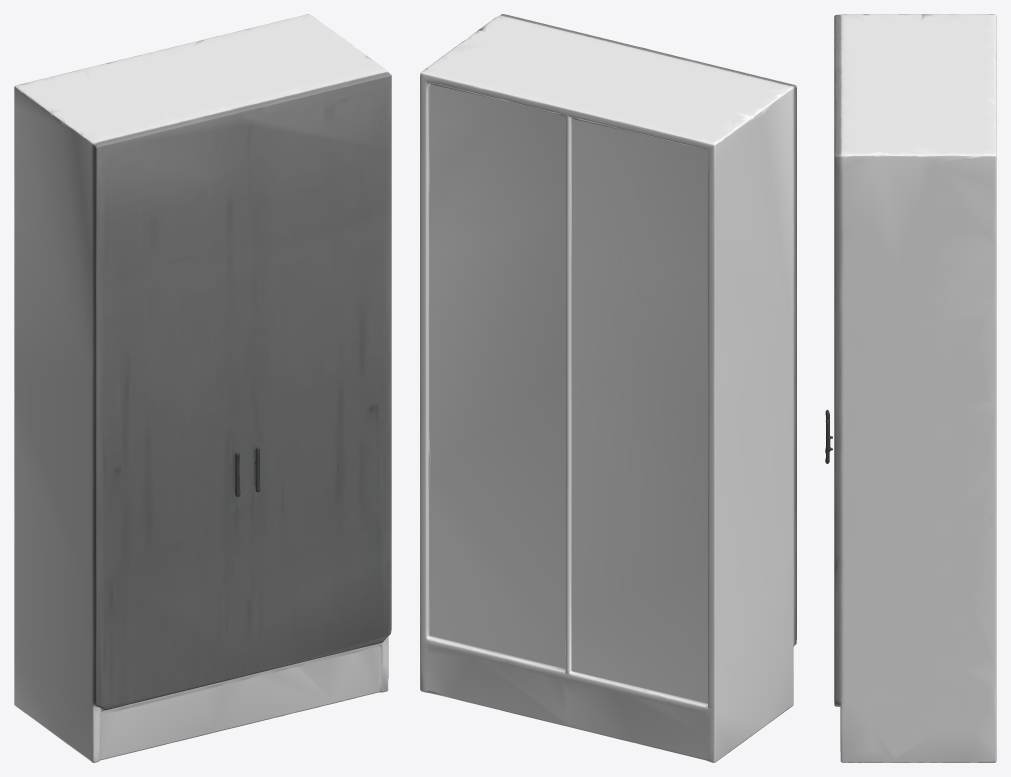
The model's file is fm_wardrobe_wood.glb.
3 views of the same model, side by side, from view 1: azimuth 30°, elevation 25°; view 2: azimuth 150°, elevation 25°; view 3: azimuth 270°, elevation 25° (orthographic).
Parts seen in each view (by area): view 1: world; view 2: world; view 3: world.
Boxes of the visible parts, box(x1,y1,x2,y2) form: world: box(14, 14, 391, 762); world: box(420, 14, 796, 762); world: box(825, 14, 996, 762).
Bounding box in the file's own units: 0.9991 × 2 × 0.5106.
1 material, 1 textured.
